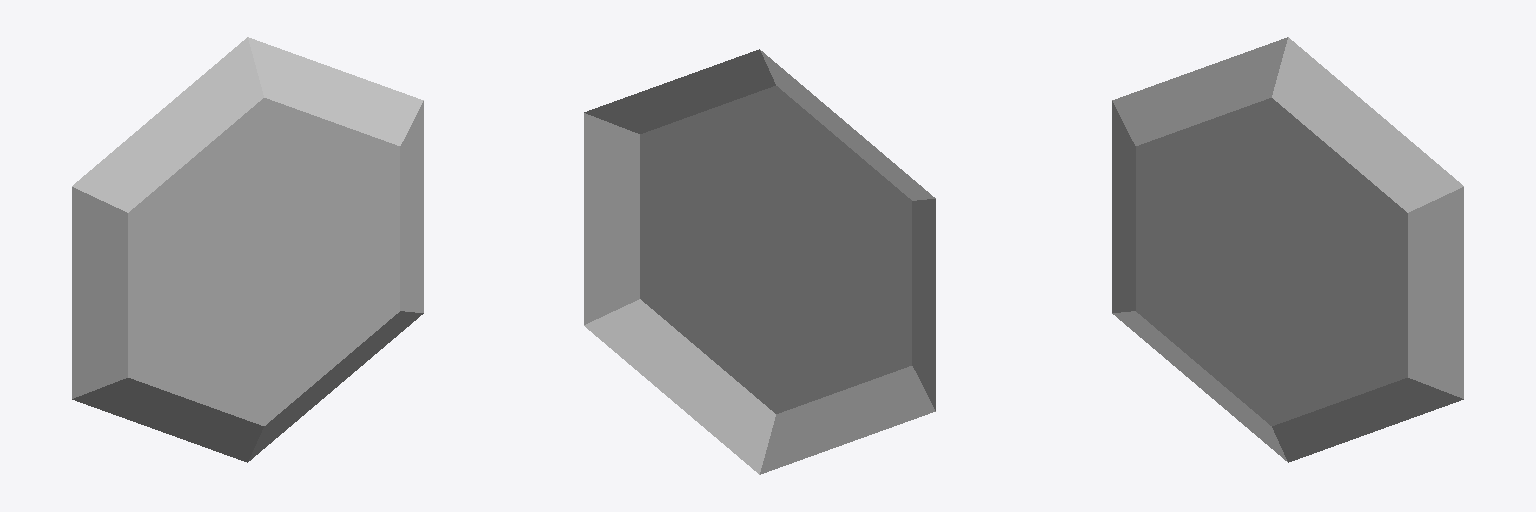
Rendered from tile_top_type_1.obj.
The picture shows the model from 3 angles: view 1: azimuth 30°, elevation 25°; view 2: azimuth 150°, elevation 25°; view 3: azimuth 330°, elevation 25°; orthographic projection.
Visible parts, largest first — view 1: Cylinder.000; view 2: Cylinder.000; view 3: Cylinder.000.
Part boxes in pixels (x1,y1,x2,y2): Cylinder.000: (72, 37, 423, 462); Cylinder.000: (584, 49, 935, 474); Cylinder.000: (1112, 37, 1463, 462).
Bounding box in the file's own units: 1.73 × 2 × 0.1408.